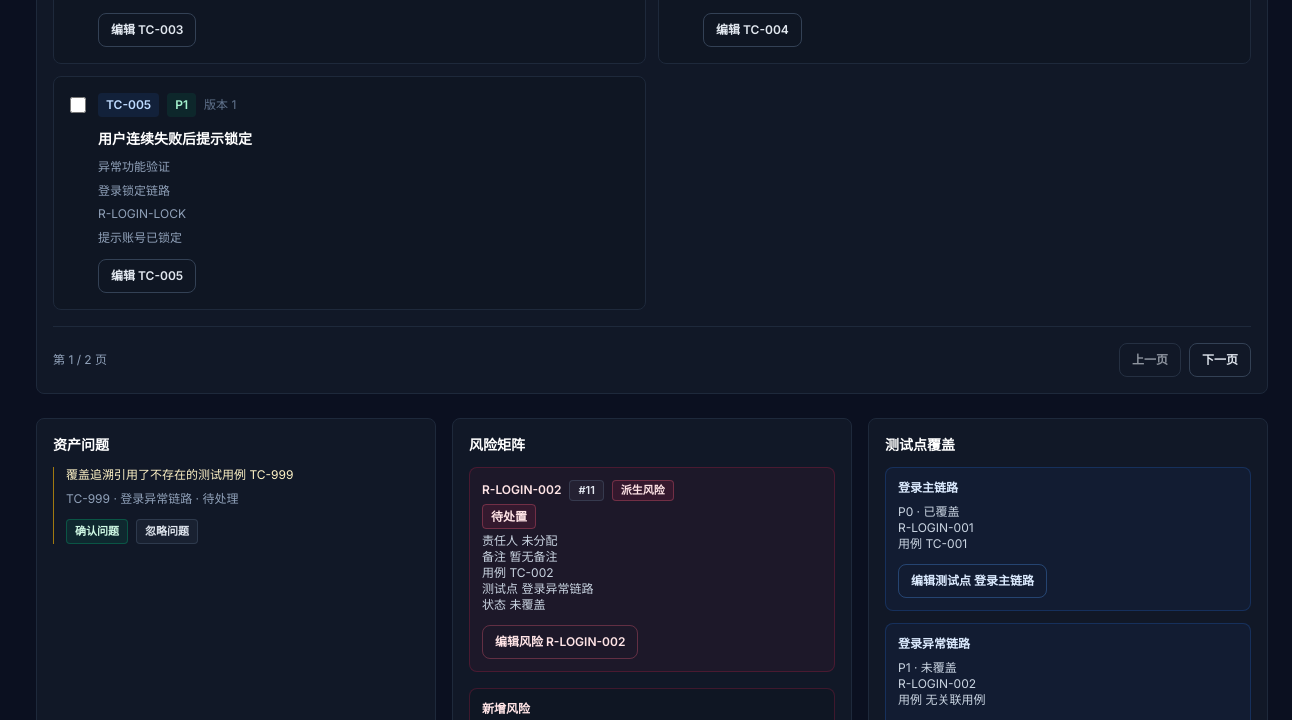
Test: TestAssetsPage › paginates sorted test cases and persists page changes in the URL
The width and height of the screenshot is (1292, 720).
(page scrolled)
Click the button "下一页". click: (1220, 360)
box: [1189,343,1251,377]
(page scrolled)
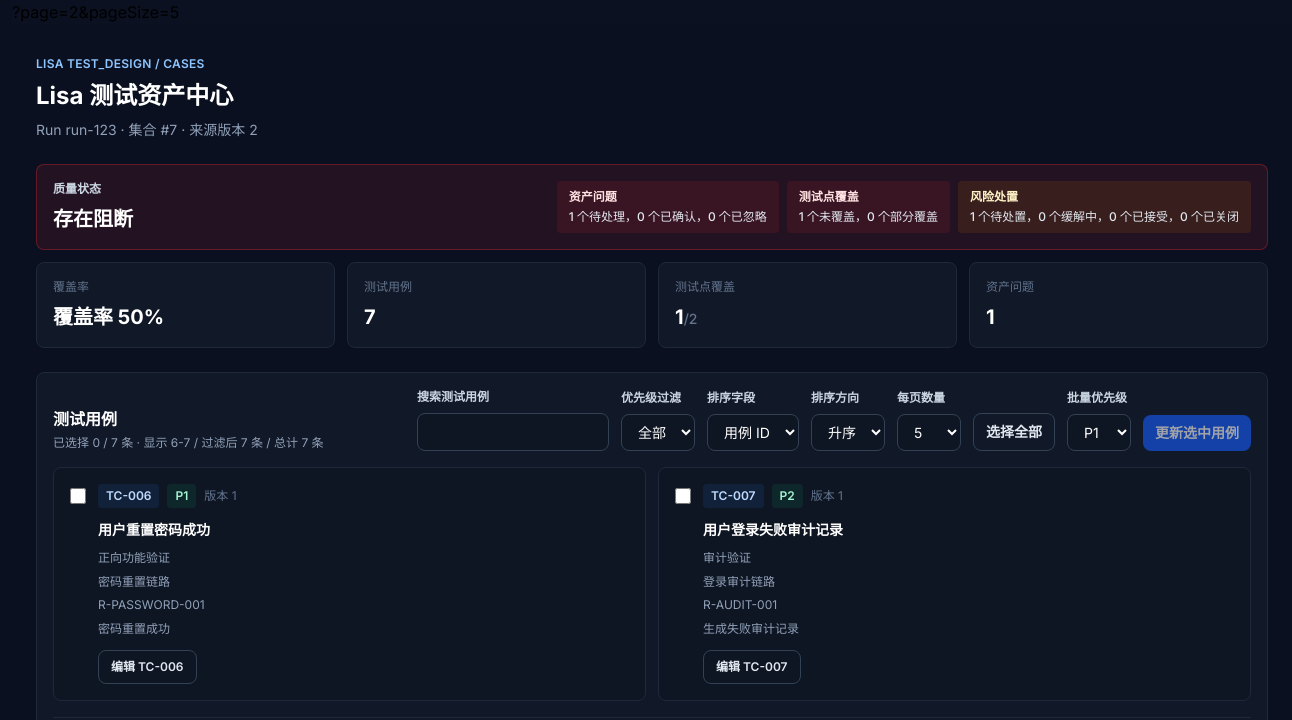
expect the element with test id "test-asset-case-TC-006" is shown: met, box [53,467,646,701]
expect the text with test id "asset-center-location" shows "page=2": met, box [12,2,179,22]
